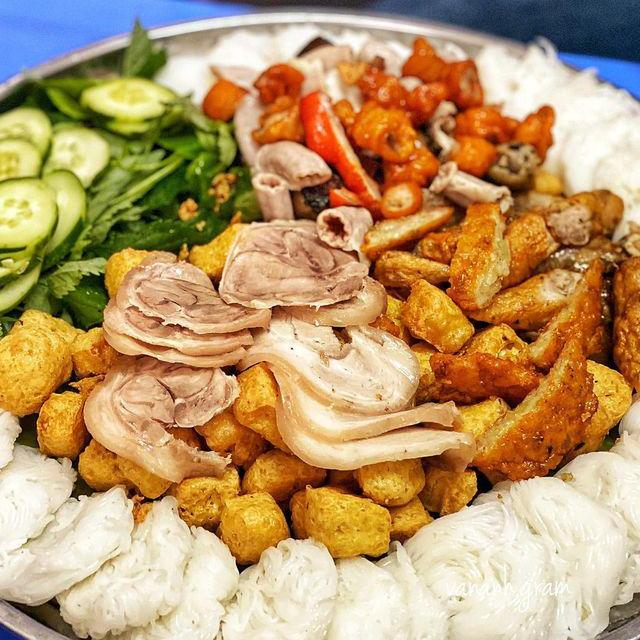bun: (383, 442, 640, 640), (47, 481, 250, 640), (0, 425, 153, 623), (465, 37, 640, 207), (181, 525, 358, 640), (289, 530, 473, 640), (0, 391, 40, 522)
bun dau: (0, 17, 640, 640)
cha com: (387, 211, 640, 400), (469, 336, 606, 489)
dau hu: (210, 440, 488, 561), (0, 298, 93, 458)
thit heo: (219, 207, 477, 482), (92, 253, 279, 380), (79, 338, 241, 483)
